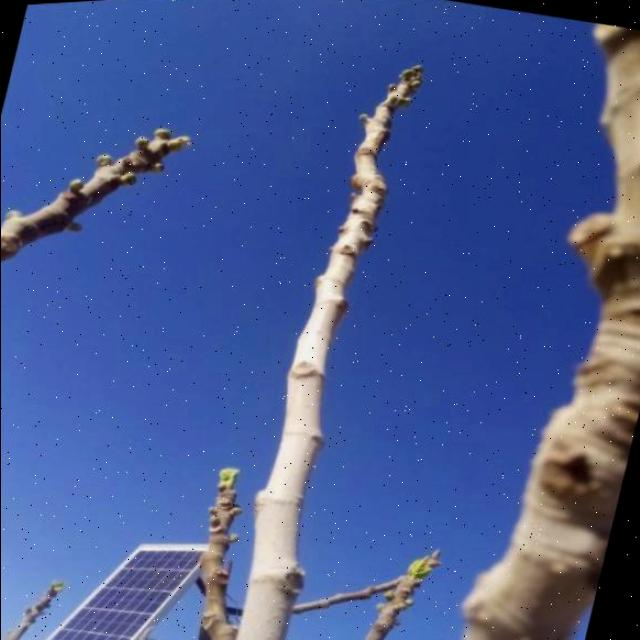Normal Solar Panel: (29, 509, 208, 640)
